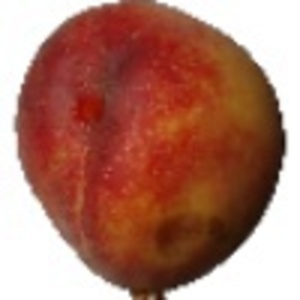pêssego: (12, 1, 288, 300)
